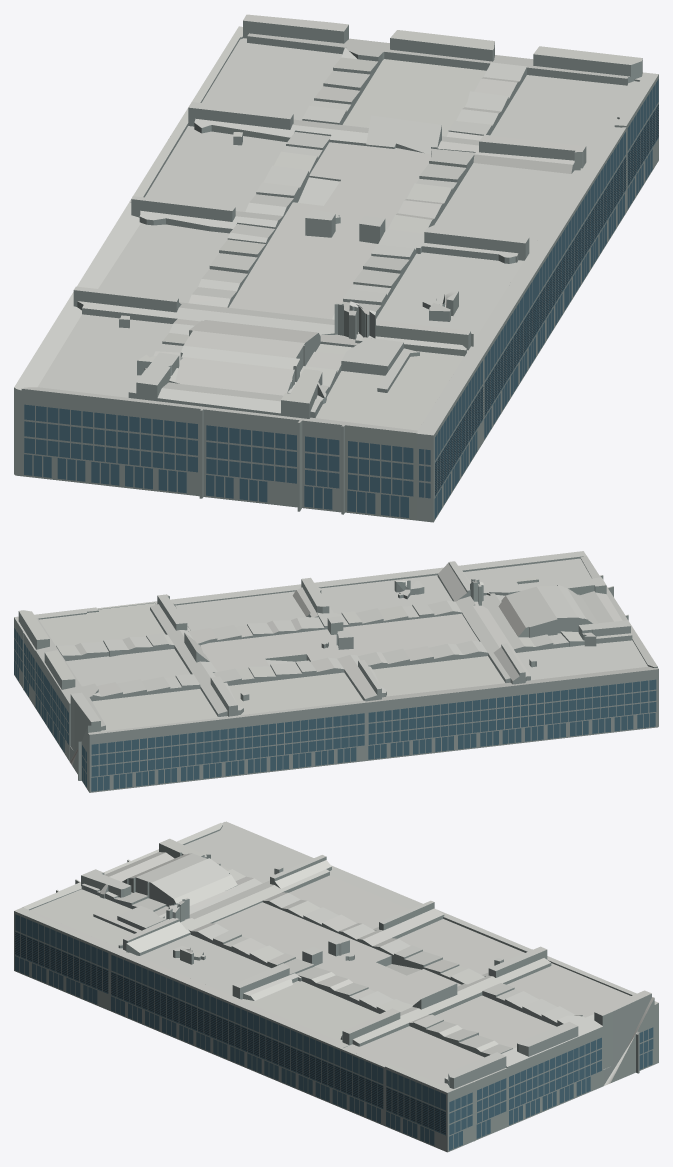
File: jacob-bontiusplaats-9.glb
The picture shows the model from 3 angles, top to bottom: view 1: azimuth 30°, elevation 25°; view 2: azimuth 150°, elevation 25°; view 3: azimuth 270°, elevation 25°; orthographic projection. The views are drawn at different scales.
Parts seen in each view (by area): view 1: jacob-bontiusplaats-9; view 2: jacob-bontiusplaats-9; view 3: jacob-bontiusplaats-9.
Part boxes in pixels (x1=…): jacob-bontiusplaats-9: x1=14, y1=14, x2=658, y2=522; jacob-bontiusplaats-9: x1=14, y1=551, x2=658, y2=792; jacob-bontiusplaats-9: x1=14, y1=821, x2=658, y2=1152.
Bounding box in the file's own units: 187 × 26.71 × 188.
